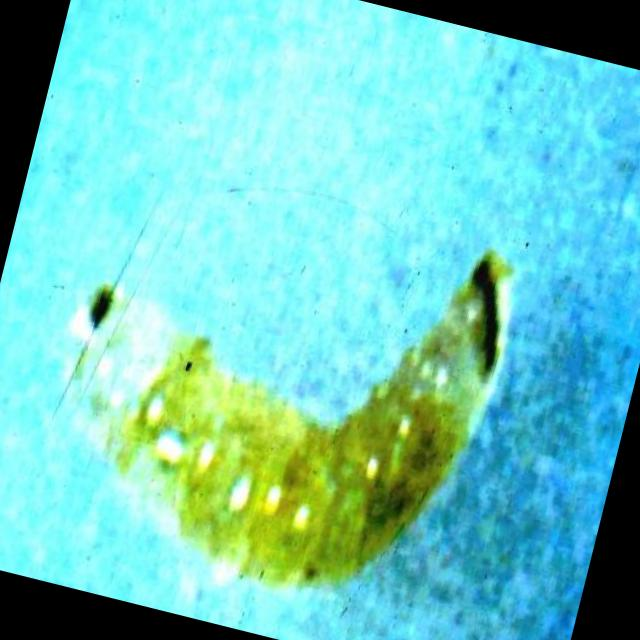whorl-maggot: (72, 240, 509, 598)
